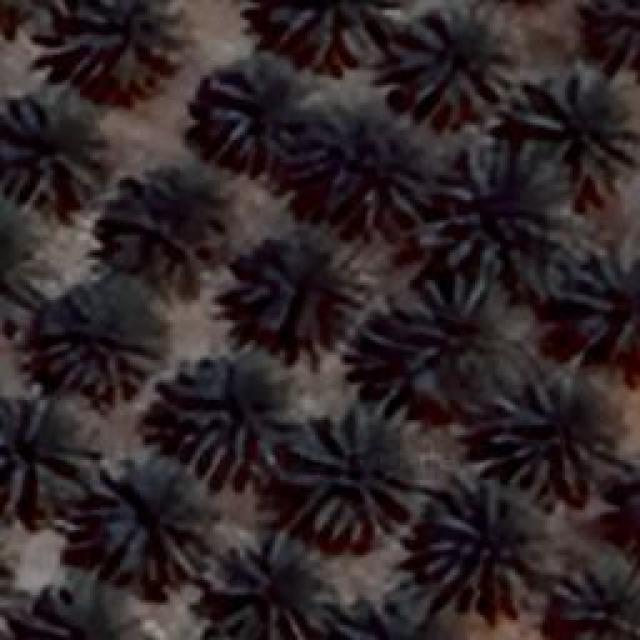PalmTree: (378, 268, 518, 410), (280, 402, 415, 548), (420, 142, 562, 270), (240, 222, 375, 350), (485, 370, 615, 500), (90, 450, 212, 588), (418, 480, 540, 615), (387, 5, 515, 130), (32, 280, 158, 398), (210, 532, 340, 638), (2, 92, 108, 208), (0, 387, 95, 515), (200, 52, 302, 170), (55, 0, 183, 88), (168, 358, 268, 468), (255, 0, 400, 70), (120, 172, 212, 282), (304, 121, 404, 216), (534, 82, 618, 188), (552, 552, 638, 638), (568, 250, 638, 355), (15, 580, 133, 640), (325, 590, 445, 640), (0, 213, 44, 342), (578, 0, 640, 78), (0, 547, 28, 637)
